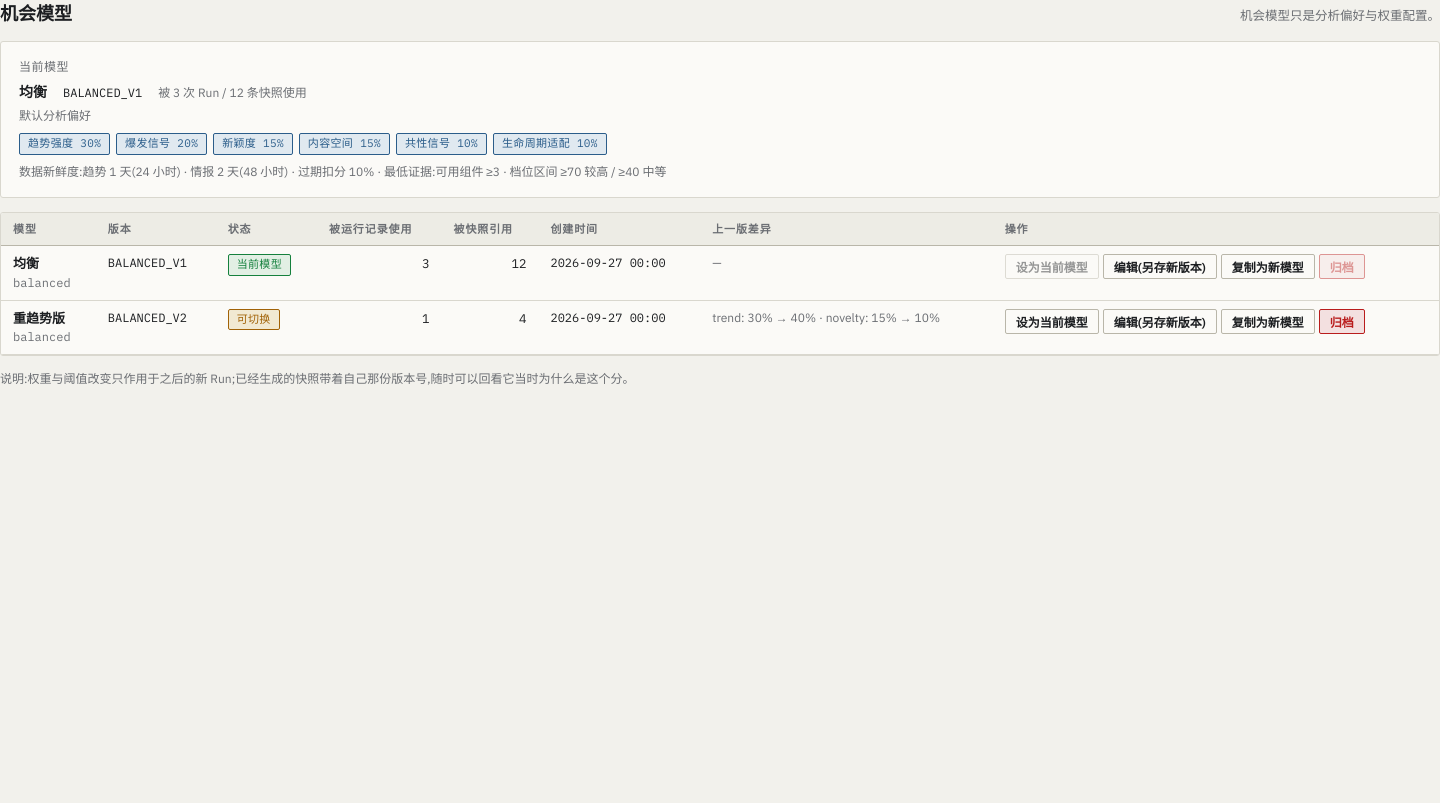
Test: 机会模型页 · 编辑草稿到新版本(§45) › §37 高级参数默认折叠,展开后能看到新鲜度/最低证据/生命周期适配
The width and height of the screenshot is (1440, 803).
Click the 1st button "编辑(另存新版本)".
click(1160, 266)  # box [1103, 254, 1217, 279]
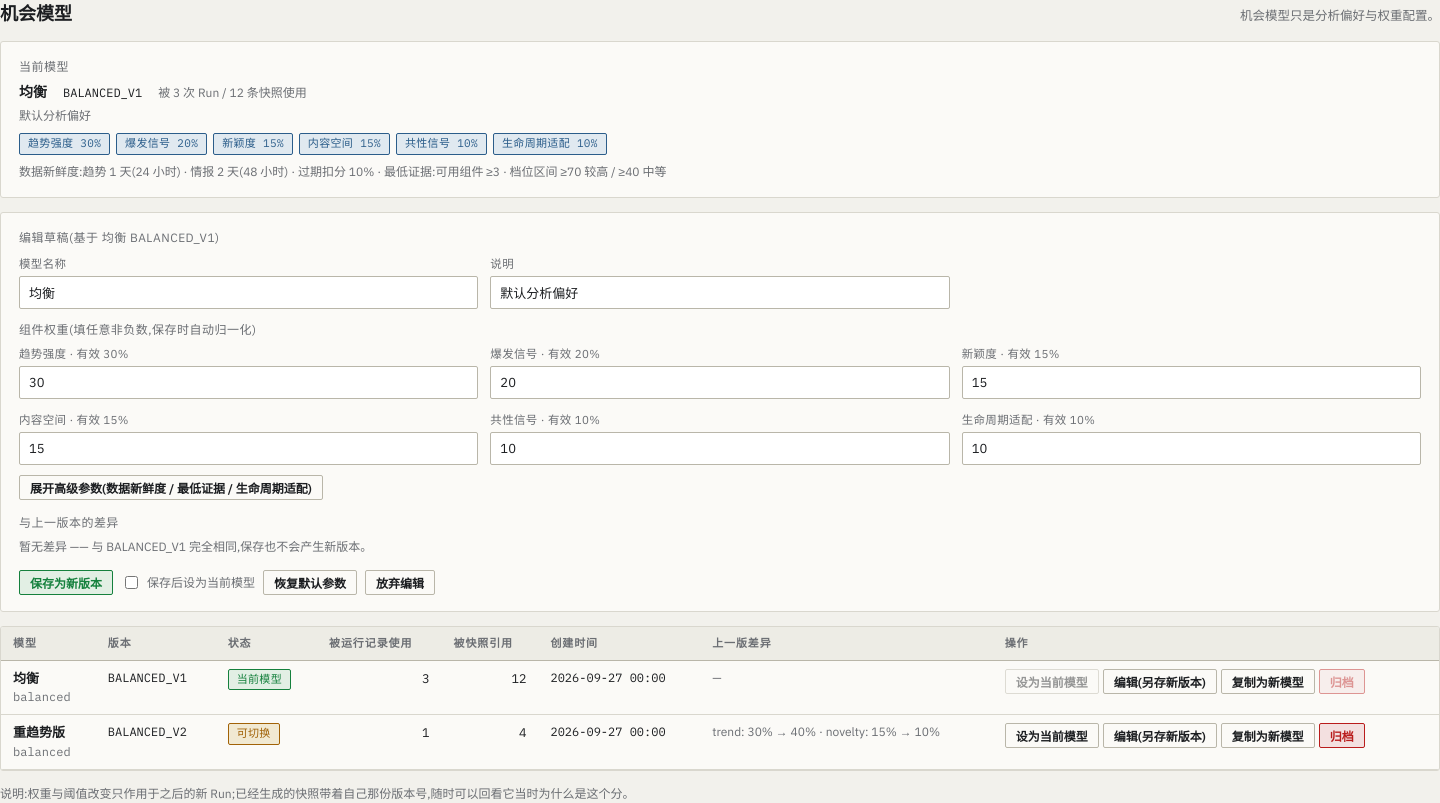
Click the button "展开高级参数(数据新鲜度 / 最低证据 / 生命周期适配)".
click(171, 488)  # box [19, 475, 323, 500]
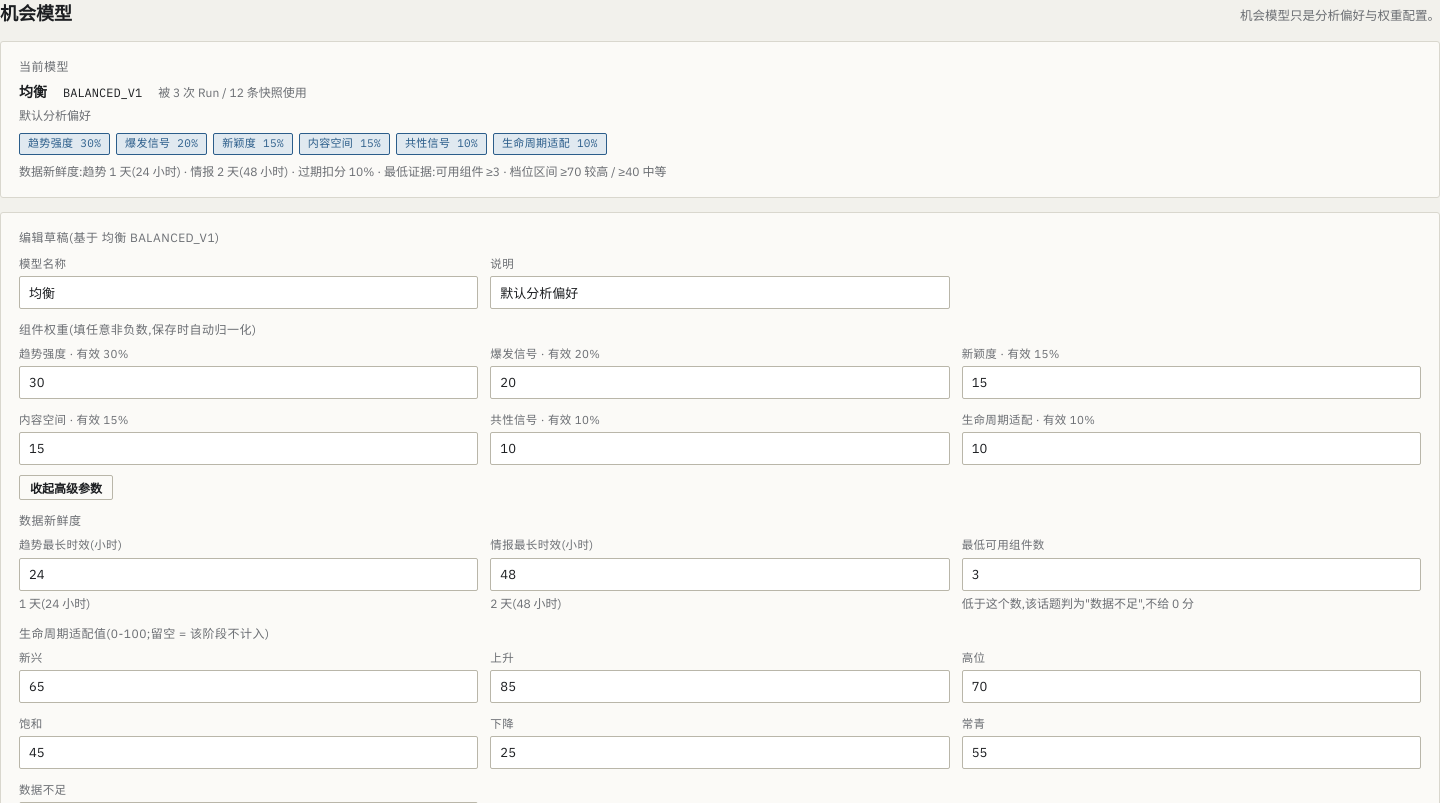
Expected: the text "1 天(24 小时)" is shown, [109, 164, 181, 178]
Now the number field with id "f-trend" is shown, box [19, 558, 478, 590]
Now the number field with id "lc-emerging" is shown, box [19, 670, 478, 703]
